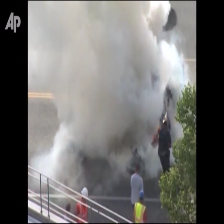smoke: (32, 2, 173, 166)
